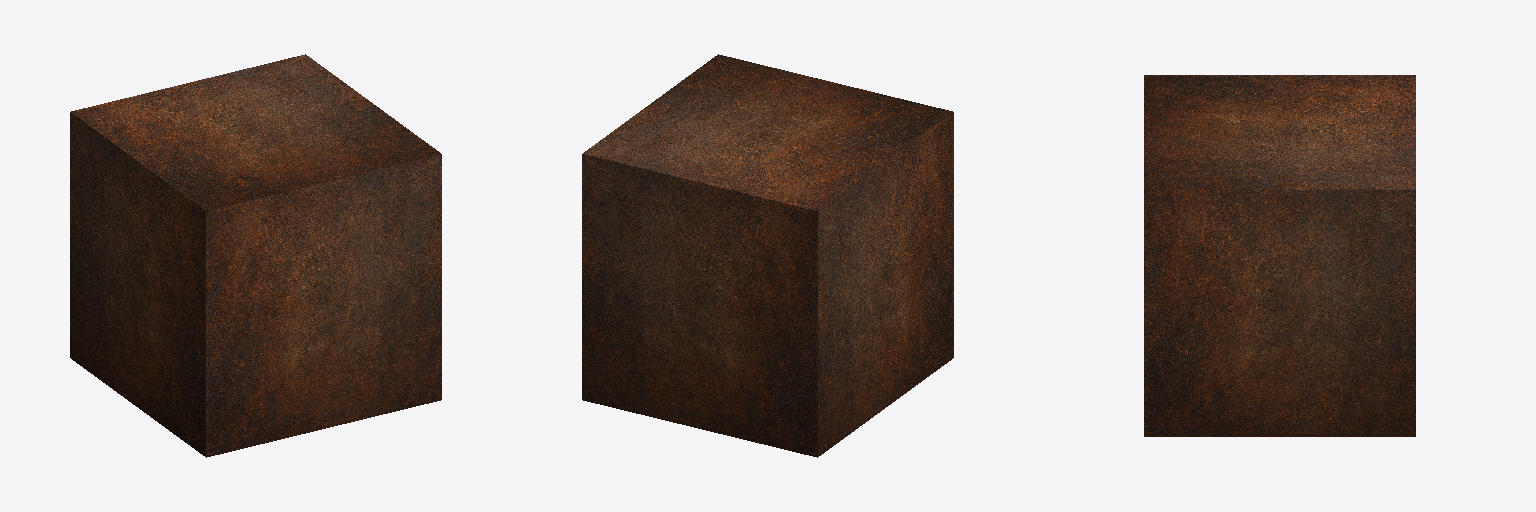
3 views of the same model, side by side, from view 1: azimuth 30°, elevation 25°; view 2: azimuth 150°, elevation 25°; view 3: azimuth 270°, elevation 25° (orthographic).
Visible parts, largest first — view 1: Cube; view 2: Cube; view 3: Cube.
Boxes of the visible parts, box(x1,y1,x2,y2) form: Cube: box(70, 54, 441, 457); Cube: box(582, 54, 953, 457); Cube: box(1144, 75, 1415, 436).
Size of the model in its own units: 2 by 2 by 2.
Materials: 1 (1 with a texture image).